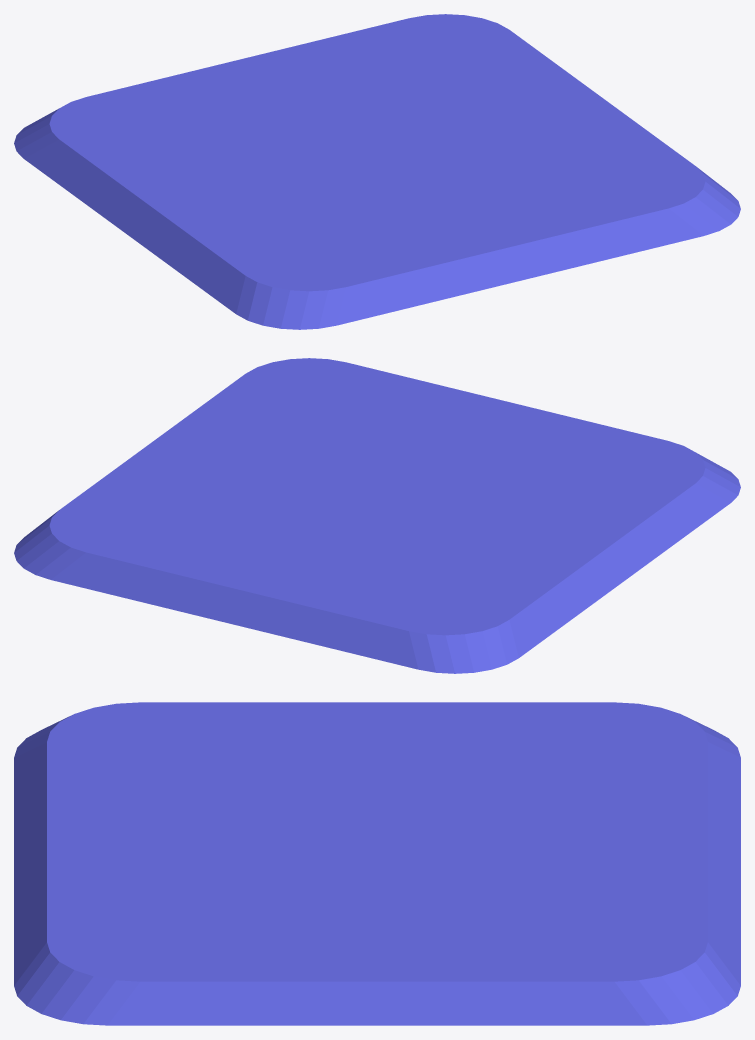
The model's file is Blue.fbx.
3 renders of one model, top to bottom at view 1: azimuth 30°, elevation 25°; view 2: azimuth 150°, elevation 25°; view 3: azimuth 270°, elevation 25°, orthographic. The views are drawn at different scales.
Parts seen in each view (by area): view 1: Cube; view 2: Cube; view 3: Cube.
Part boxes in pixels (bbox=[...]): Cube: bbox=[14, 14, 740, 329]; Cube: bbox=[14, 358, 740, 673]; Cube: bbox=[14, 702, 740, 1025].
Size of the model in its own units: 220 by 10 by 220.
